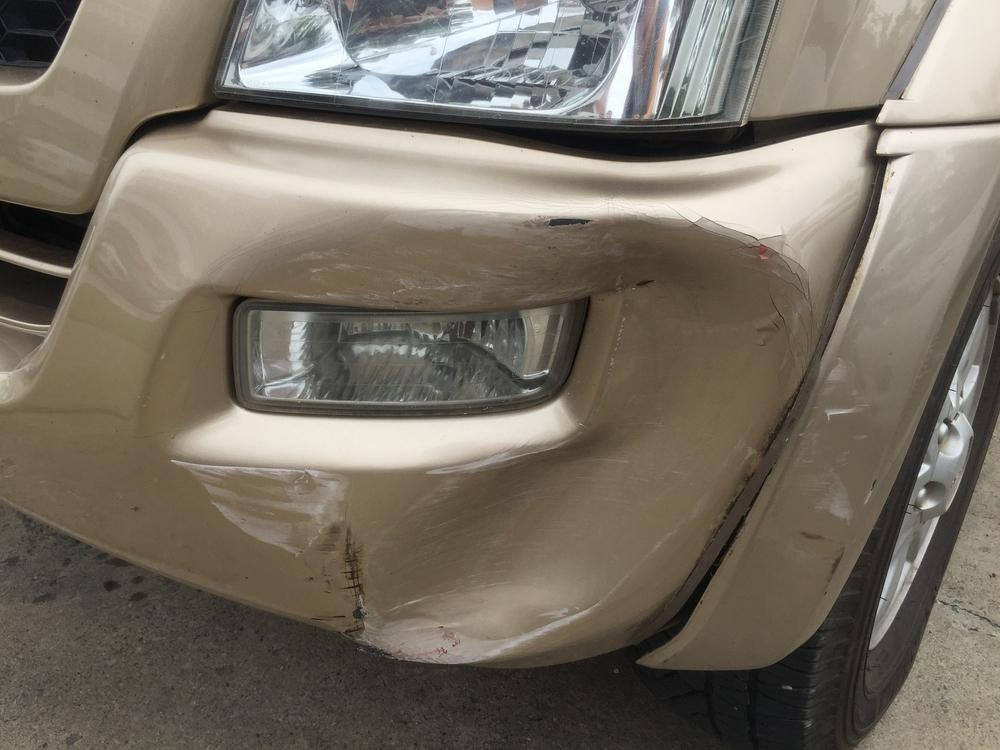dent: (369, 215, 816, 662)
scratch: (163, 455, 374, 642), (269, 201, 597, 313)
